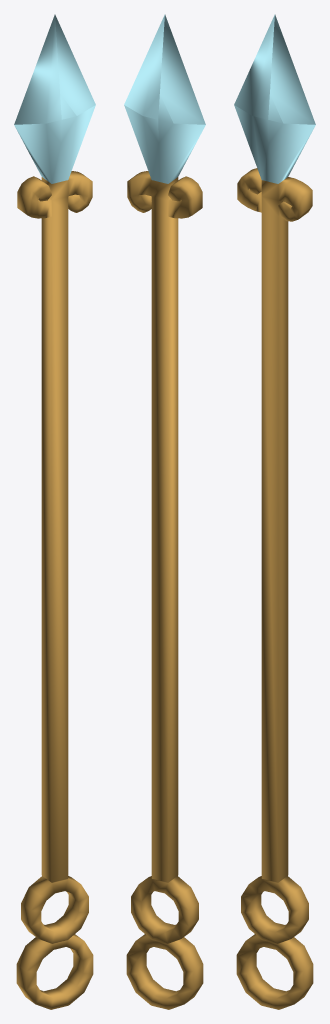
File: Spear.glb
3 views of the same model, side by side, from view 1: azimuth 30°, elevation 25°; view 2: azimuth 150°, elevation 25°; view 3: azimuth 330°, elevation 25° (orthographic).
Parts seen in each view (by area): view 1: Spear; view 2: Spear; view 3: Spear.
Part boxes in pixels (left/top/right/bottom): Spear: left=14, top=14, right=95, bottom=1009; Spear: left=124, top=14, right=205, bottom=1009; Spear: left=234, top=14, right=315, bottom=1009.
Bounding box in the file's own units: 0.2258 × 2.61 × 0.065.
